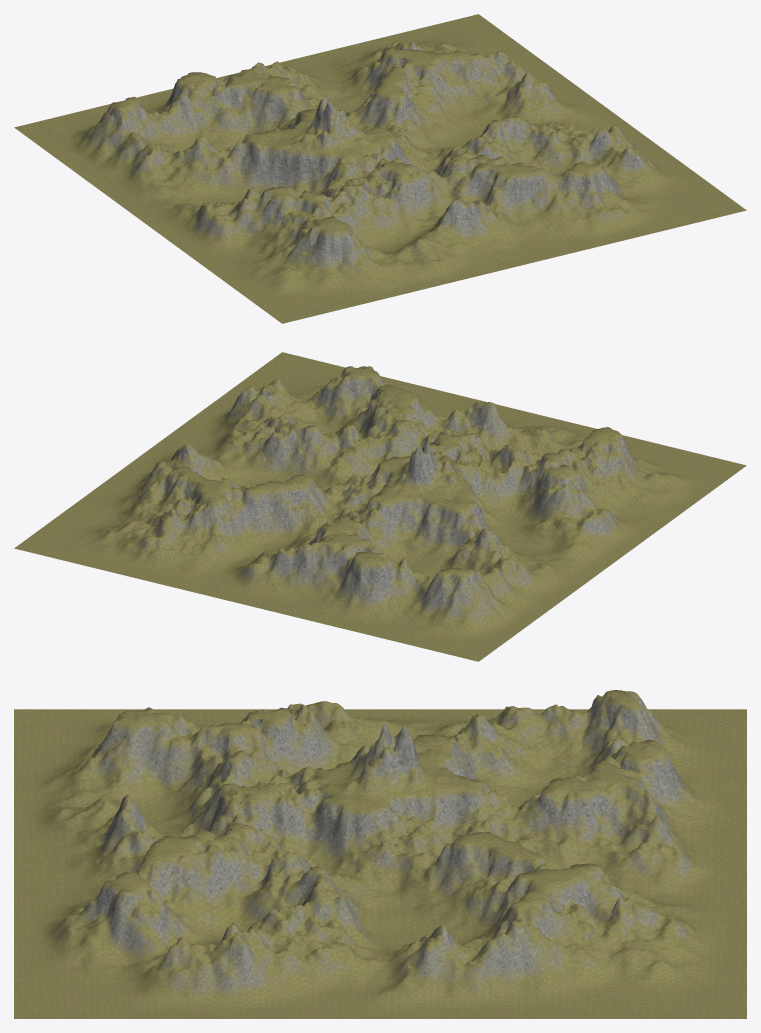
Rendered from colorRampBaked.glb.
3 views of the same model, one above another, from view 1: azimuth 30°, elevation 25°; view 2: azimuth 150°, elevation 25°; view 3: azimuth 270°, elevation 25° (orthographic). The views are drawn at different scales.
Visible parts, largest first — view 1: Landscape; view 2: Landscape; view 3: Landscape.
Part boxes in pixels (x1,y1,x2,y2): Landscape: (14,14,746,323); Landscape: (14,352,746,661); Landscape: (14,690,746,1018).
Bounding box in the file's own units: 3 × 0.4814 × 3.
1 material, 1 textured.
